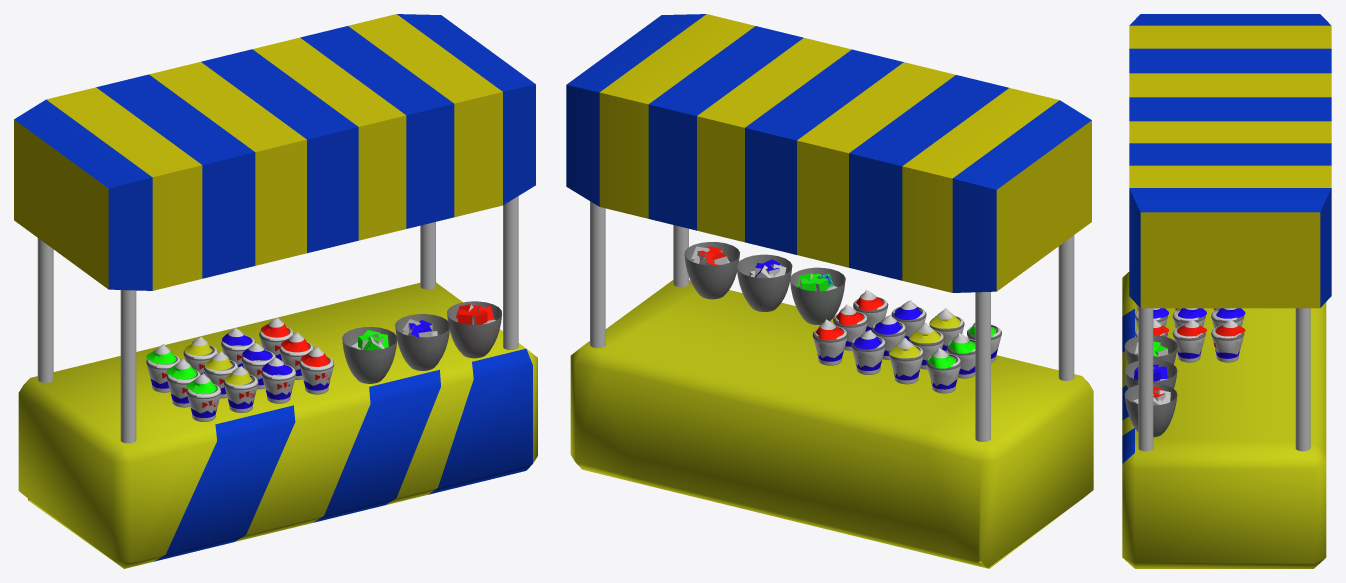
The model's file is Store_festival3.fbx.
3 views of the same model, side by side, from view 1: azimuth 30°, elevation 25°; view 2: azimuth 150°, elevation 25°; view 3: azimuth 270°, elevation 25° (orthographic). The views are drawn at different scales.
Visible parts, largest first — view 1: obj1, obj3, obj2, obj5, obj6, obj7, obj4, obj13, obj16, obj9, obj11, obj14; view 2: obj1, obj3, obj2, obj6, obj5, obj4, obj13, obj7, obj9, obj14, obj11; view 3: obj1, obj3, obj2, obj6, obj5, obj13, obj7, obj4, obj11.
Boxes of the visible parts, left/top/right/bottom form: obj1: left=14, top=14, right=535, bottom=290; obj3: left=18, top=282, right=537, bottom=568; obj2: left=37, top=196, right=518, bottom=443; obj5: left=166, top=332, right=313, bottom=407; obj6: left=146, top=317, right=293, bottom=392; obj7: left=342, top=327, right=397, bottom=383; obj4: left=395, top=314, right=450, bottom=370; obj13: left=447, top=301, right=502, bottom=358; obj16: left=186, top=373, right=221, bottom=421; obj9: left=299, top=346, right=334, bottom=394; obj11: left=261, top=357, right=296, bottom=403; obj14: left=223, top=366, right=258, bottom=412; obj1: left=566, top=14, right=1091, bottom=292; obj3: left=570, top=280, right=1093, bottom=568; obj2: left=590, top=201, right=1074, bottom=441; obj6: left=812, top=319, right=961, bottom=393; obj5: left=833, top=304, right=975, bottom=378; obj4: left=736, top=254, right=792, bottom=311; obj13: left=684, top=242, right=739, bottom=299; obj7: left=790, top=267, right=845, bottom=324; obj9: left=853, top=290, right=888, bottom=331; obj14: left=929, top=308, right=964, bottom=353; obj11: left=891, top=300, right=926, bottom=341; obj1: left=1129, top=14, right=1331, bottom=308; obj3: left=1122, top=272, right=1326, bottom=568; obj2: left=1138, top=306, right=1310, bottom=451; obj6: left=1211, top=308, right=1245, bottom=362; obj5: left=1172, top=308, right=1206, bottom=362; obj13: left=1124, top=383, right=1177, bottom=437; obj7: left=1124, top=335, right=1177, bottom=364; obj4: left=1124, top=359, right=1177, bottom=388; obj11: left=1135, top=308, right=1168, bottom=327.
Size of the model in its own units: 261 by 226 by 116.
